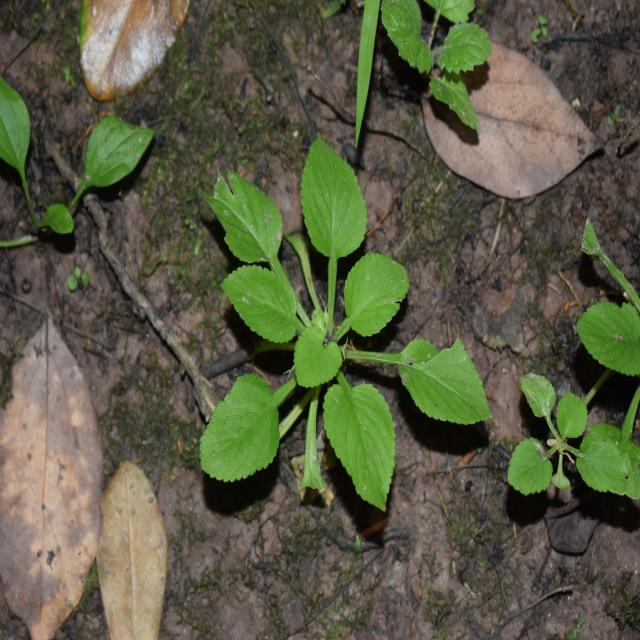Viola: (212, 131, 472, 506)
